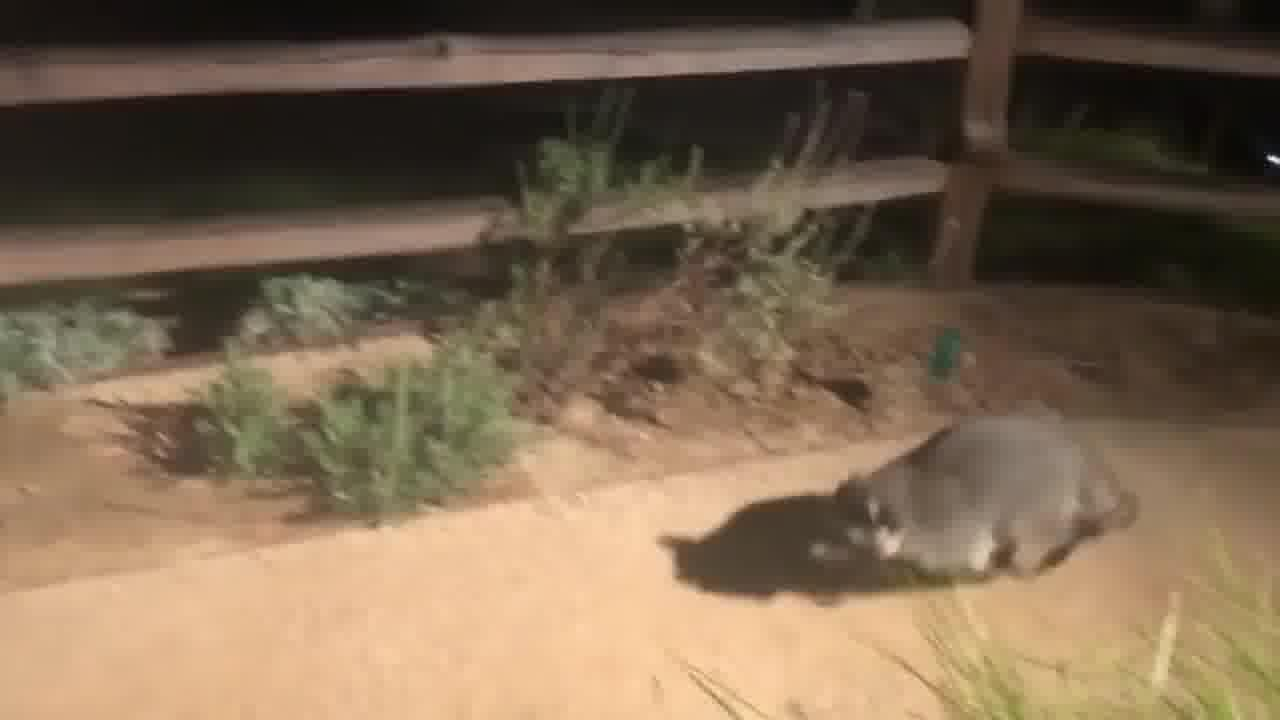raccoon: (798, 392, 1151, 610)
